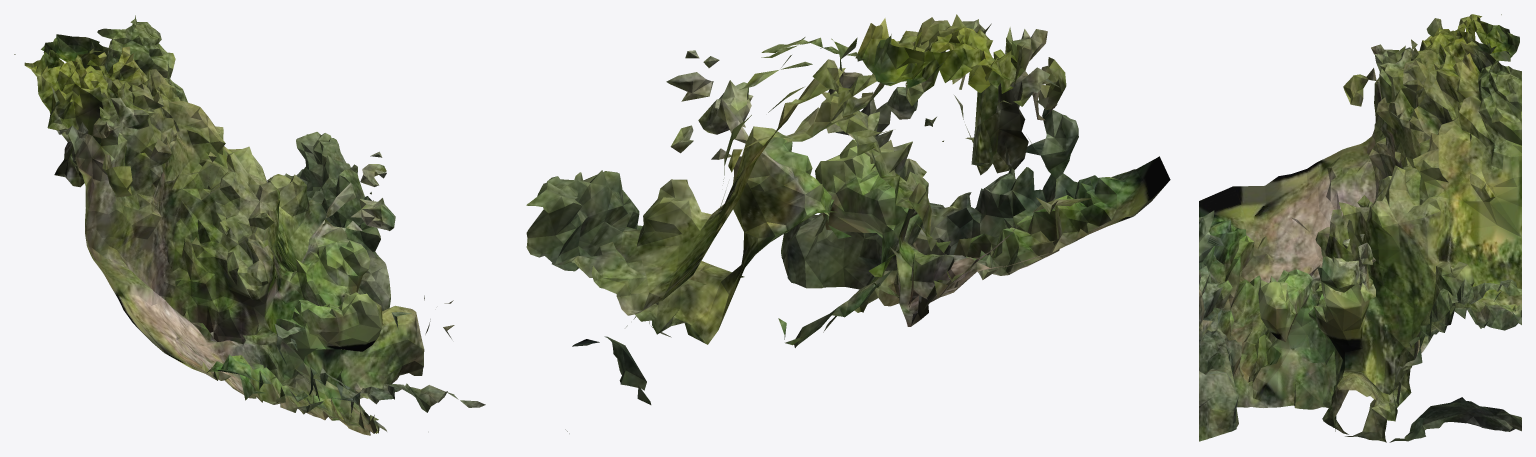
3 views of the same model, side by side, from view 1: azimuth 30°, elevation 25°; view 2: azimuth 150°, elevation 25°; view 3: azimuth 270°, elevation 25° (orthographic). The views are drawn at different scales.
Size of the model in its own units: 23.6 by 23.6 by 23.6.
6 materials, 6 textured.
